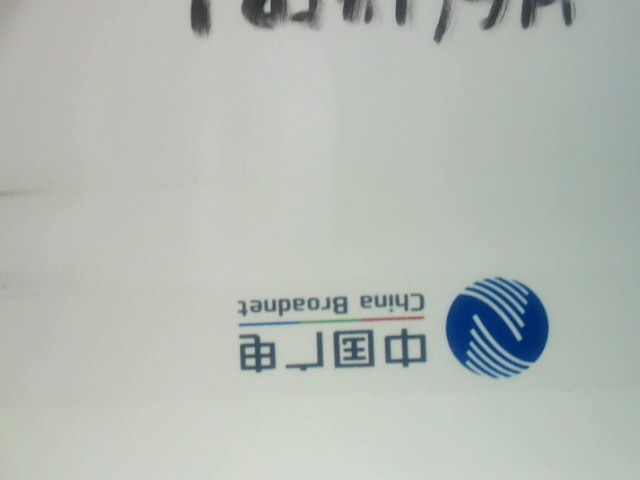AW_ChinaBroadNet: (227, 273, 576, 383)
